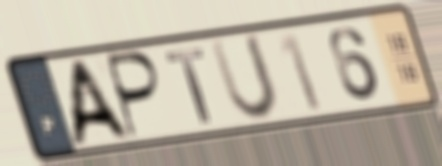1: (277, 28, 325, 114)
6: (327, 26, 383, 104)
A: (67, 55, 136, 149)
P: (105, 48, 165, 142)
T: (162, 44, 215, 127)
U: (205, 30, 283, 125)
